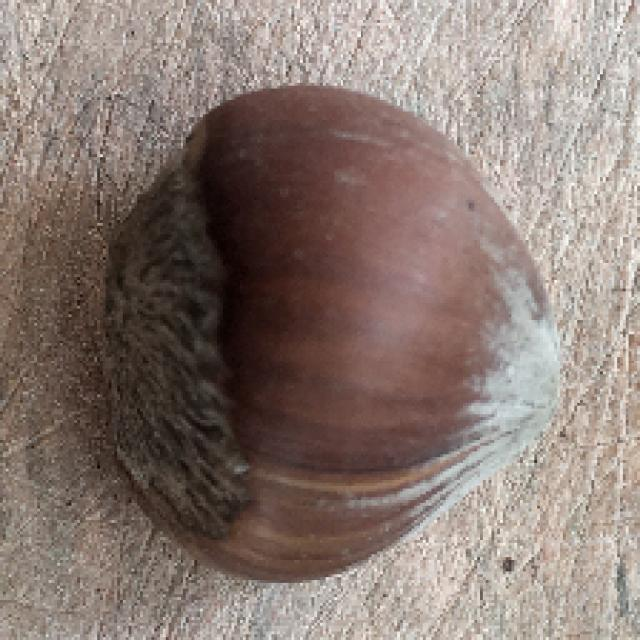DamagedHazelnut: (95, 84, 577, 588)
